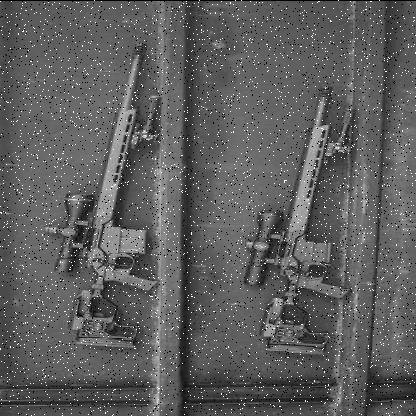rifle: (222, 59, 377, 358), (34, 22, 167, 362)
